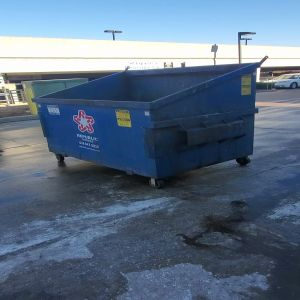Dumpster: (34, 62, 262, 190)
